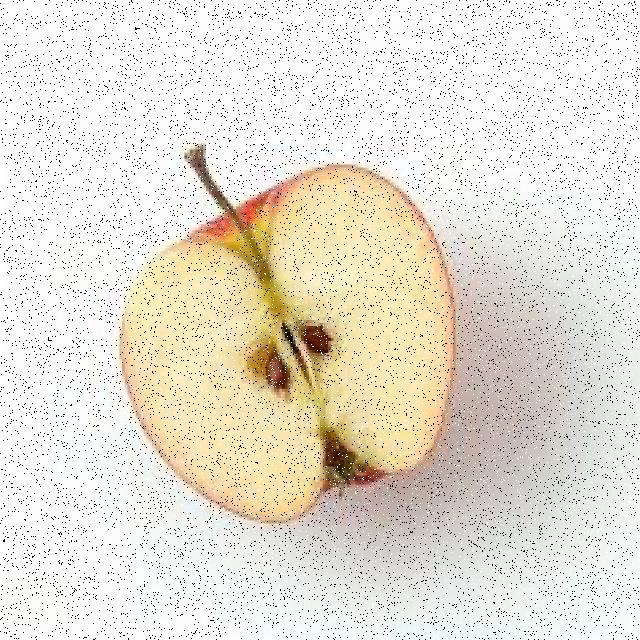Apple: (120, 164, 456, 520)
